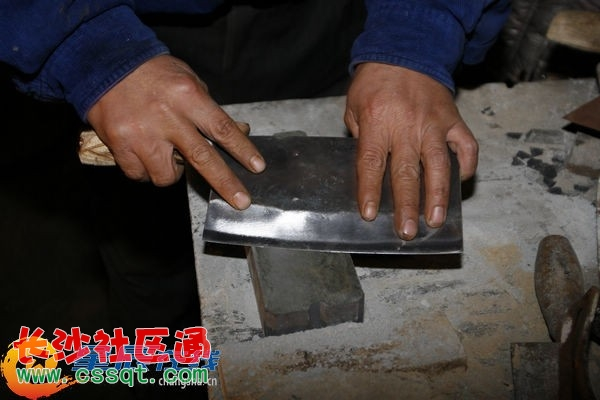knief: (73, 136, 482, 265)
